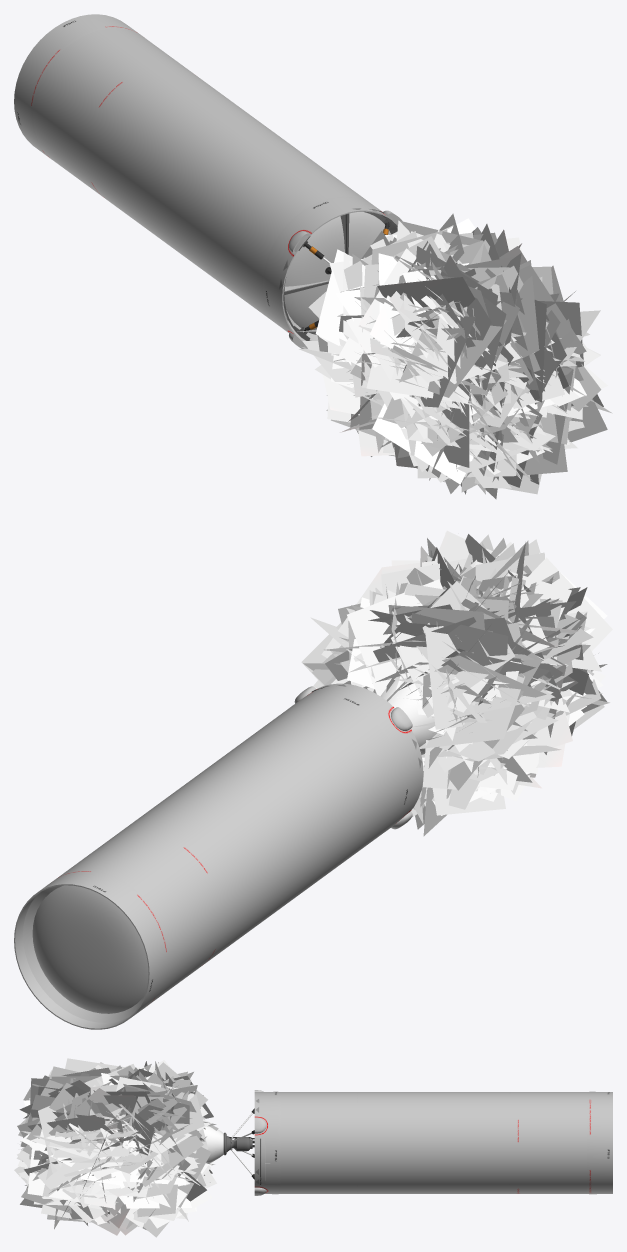
The model's file is cohete_motor.glb.
3 views of the same model, one above another, from view 1: azimuth 30°, elevation 25°; view 2: azimuth 150°, elevation 25°; view 3: azimuth 270°, elevation 25° (orthographic). The views are drawn at different scales.
Visible parts, largest first — view 1: tank long flat section.001; view 2: tank long flat section.001; view 3: tank long flat section.001.
Part boxes in pixels (x1=…): tank long flat section.001: x1=14, y1=14, x2=612, y2=499; tank long flat section.001: x1=14, y1=530, x2=612, y2=1029; tank long flat section.001: x1=14, y1=1058, x2=612, y2=1237.
Size of the model in its own units: 6.91 by 6.8 by 23.41.
4 materials, 3 textured.
